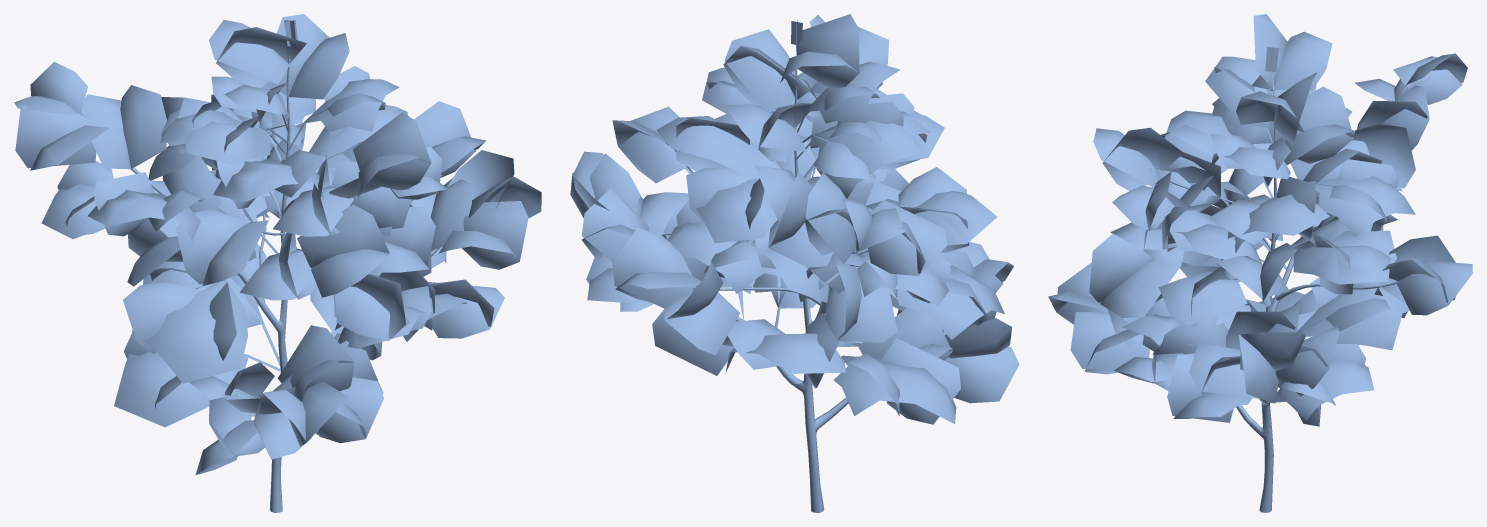
The picture shows the model from 3 angles, left to right: view 1: azimuth 30°, elevation 25°; view 2: azimuth 150°, elevation 25°; view 3: azimuth 270°, elevation 25°; orthographic projection. The views are drawn at different scales.
Visible parts, largest first — view 1: AM113_029_Fraxinus; view 2: AM113_029_Fraxinus; view 3: AM113_029_Fraxinus.
Boxes of the visible parts, box(x1,y1,x2,y2) form: AM113_029_Fraxinus: box(14, 14, 541, 512); AM113_029_Fraxinus: box(570, 14, 1019, 512); AM113_029_Fraxinus: box(1048, 14, 1472, 512).
Bounding box in the file's own units: 2078 × 2235 × 1785.
